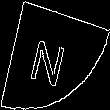N_N: (33, 24, 77, 86)
